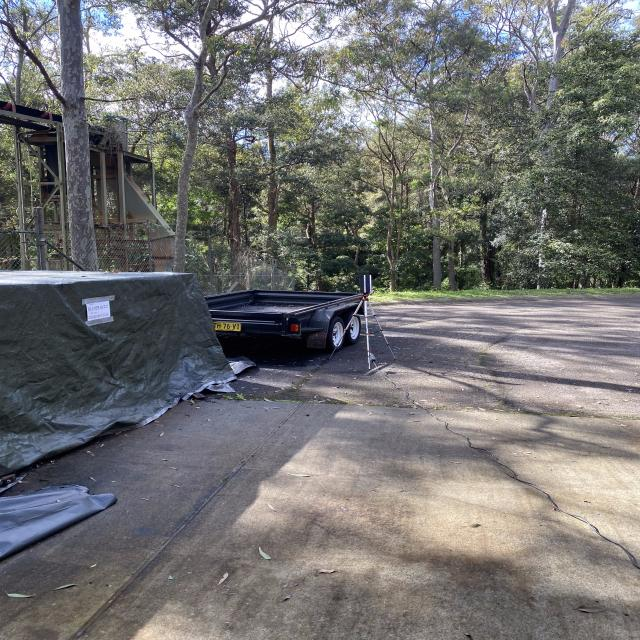matrix: (357, 273, 378, 298)
